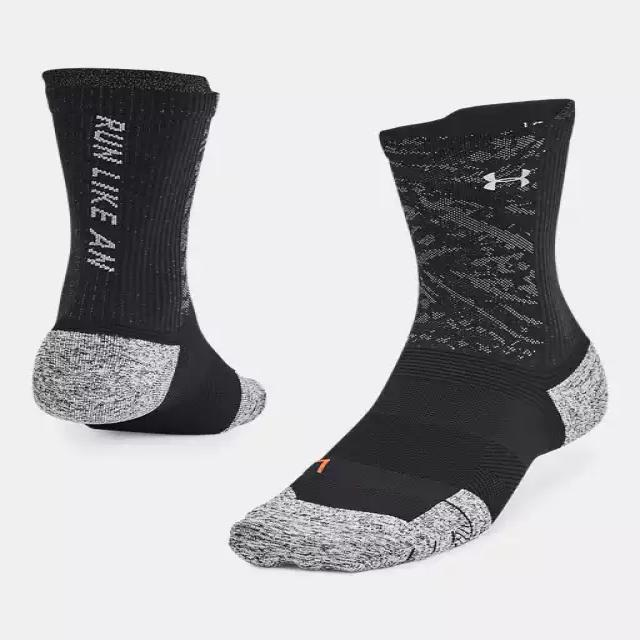sock: (227, 97, 608, 572), (32, 66, 266, 435)
